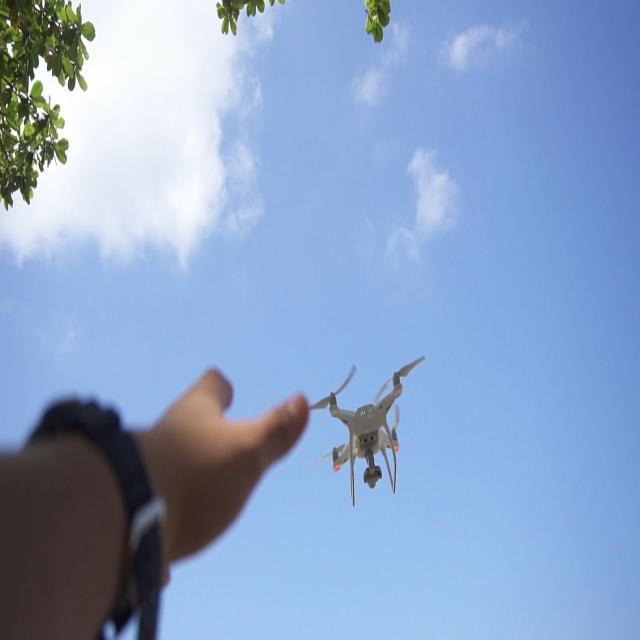Drone: (312, 370, 416, 511)
